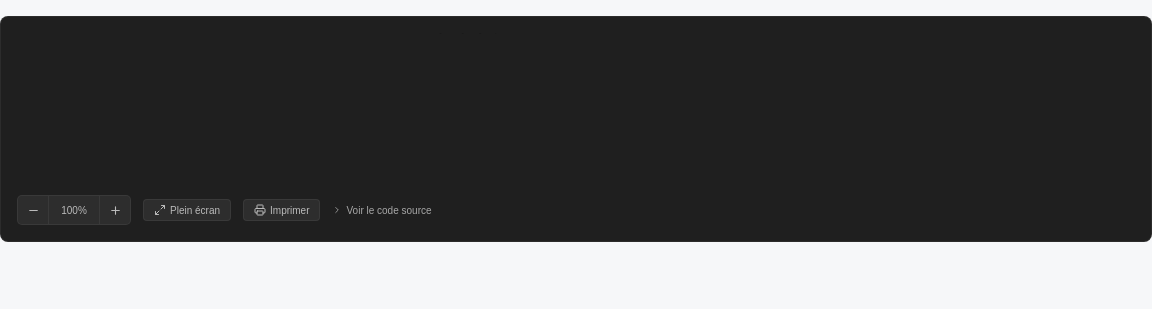
Test case: MermaidDiagram (0.8.3 #289) › Show source toggle reveals + hides the raw source
This screenshot has width=1152, height=309.
# Click to show
Click the button with class "kronn-mermaid-source-toggle" at (382, 210), box [332,200,432,220]
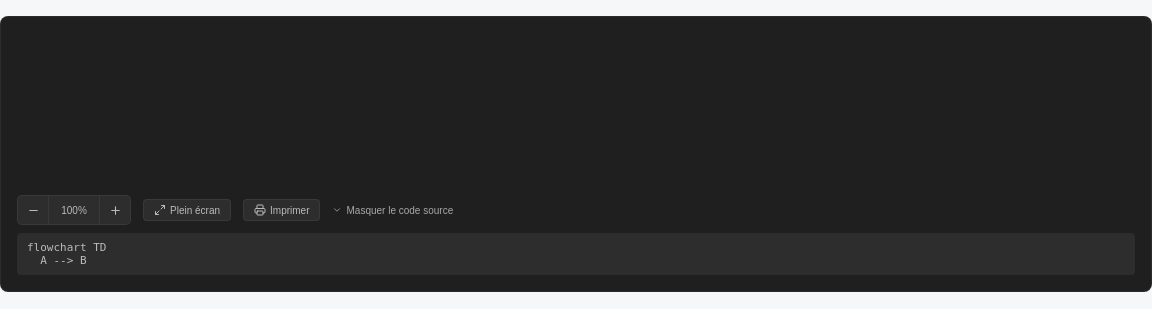
Expected: the text "flowchart TD A --> B" is shown, [17,233,1135,275]
Expected: the text with class "kronn-mermaid-source" shows "flowchart TD", [27,241,106,267]
# Click to hide
Click the button with class "kronn-mermaid-source-toggle" at (393, 210), box [332,200,453,220]
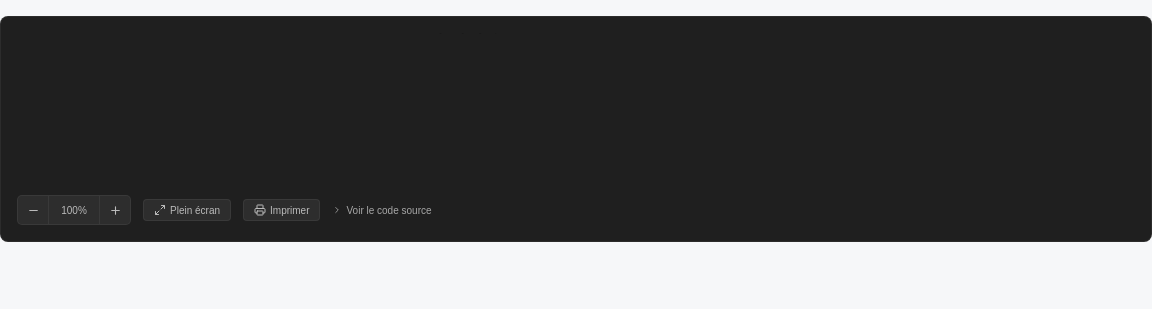
Expected: the text with class "kronn-mermaid-source" is gone
